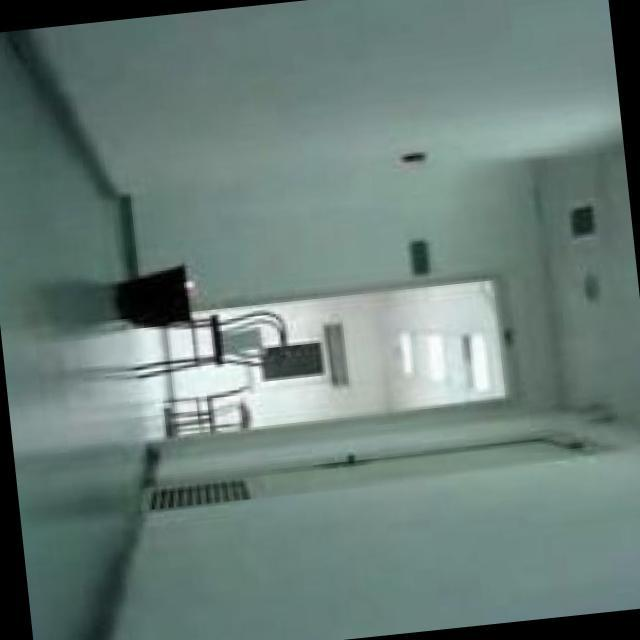Fire: (184, 273, 197, 284)
